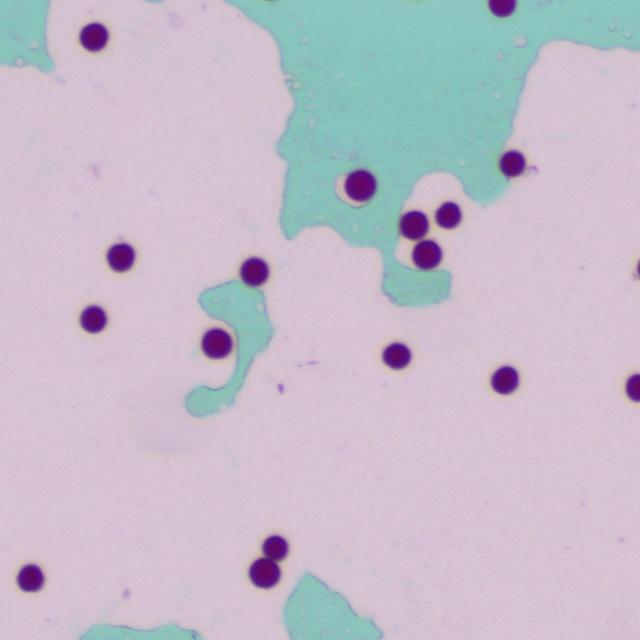viable: (249, 558, 280, 588), (346, 169, 375, 201), (202, 329, 231, 357), (80, 22, 108, 51), (412, 240, 441, 268), (399, 211, 427, 239), (491, 365, 518, 394), (241, 257, 268, 285), (107, 243, 134, 271), (80, 305, 106, 332), (500, 150, 525, 177), (17, 565, 44, 590), (383, 343, 410, 368), (262, 535, 287, 561), (436, 202, 461, 228), (489, 0, 515, 16), (627, 373, 639, 401)
